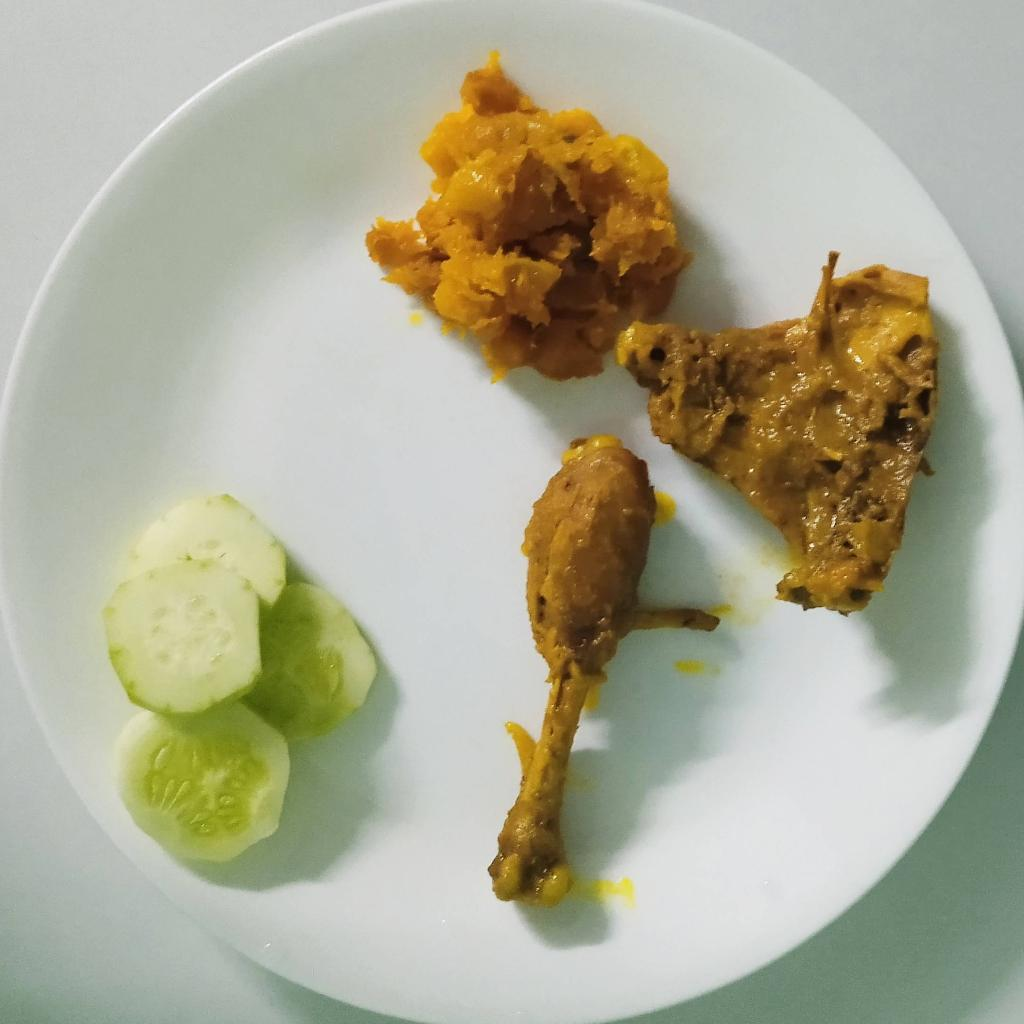chicken: (489, 252, 939, 909)
cucumber: (105, 493, 385, 871)
kumra-vaji: (363, 59, 686, 388)
